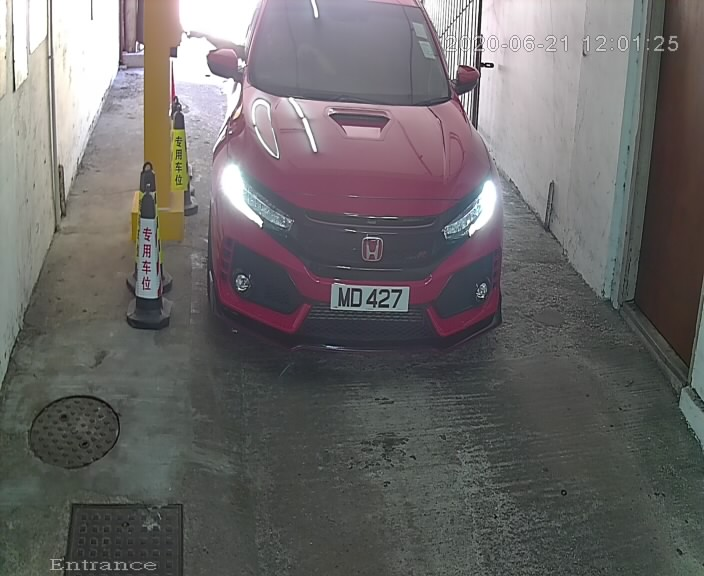privatecar: (197, 1, 525, 362)
